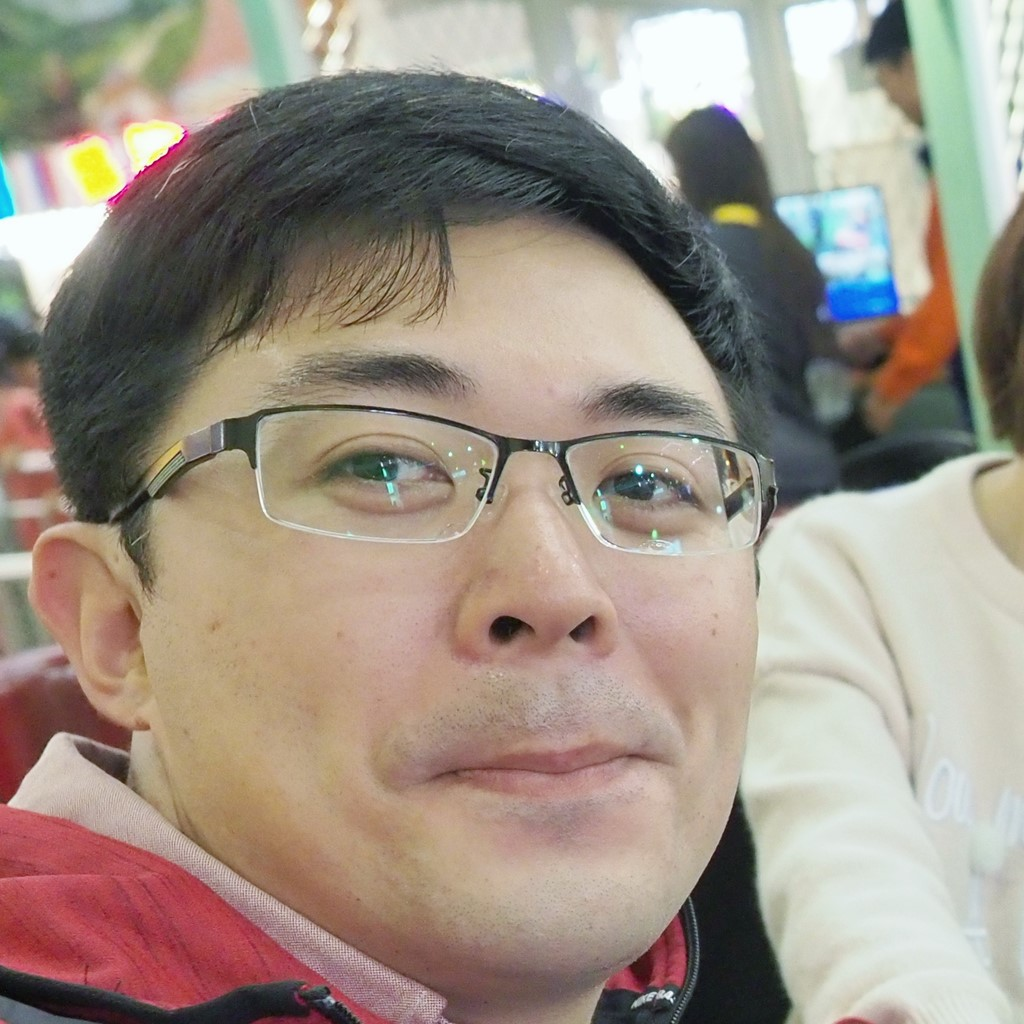sin_mascara: (166, 193, 757, 977)
